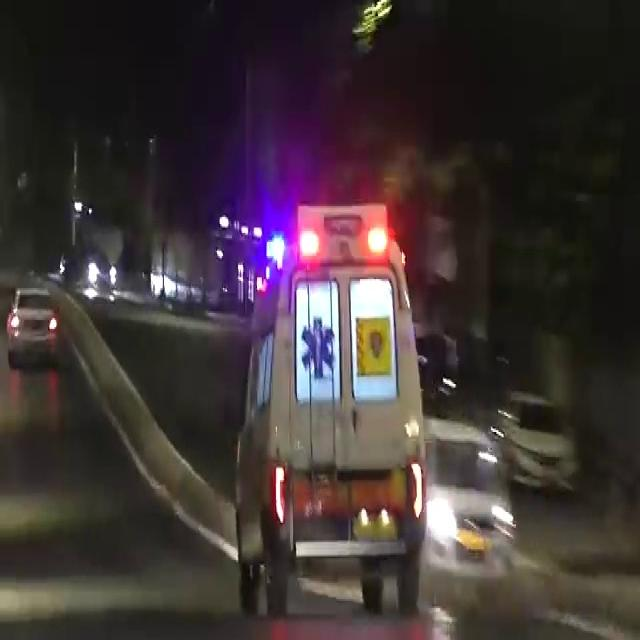ambulance: (248, 200, 430, 604)
